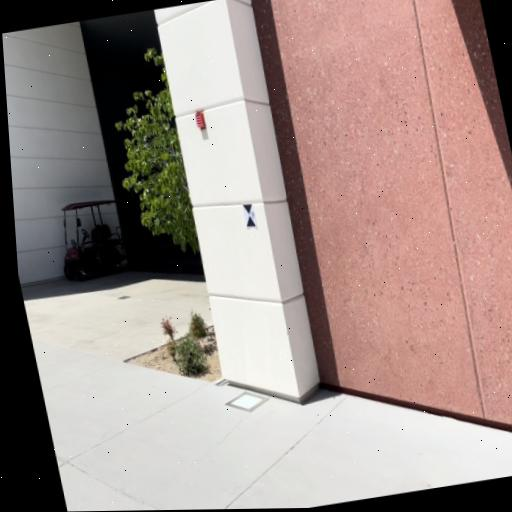target9: (243, 203, 257, 228)
